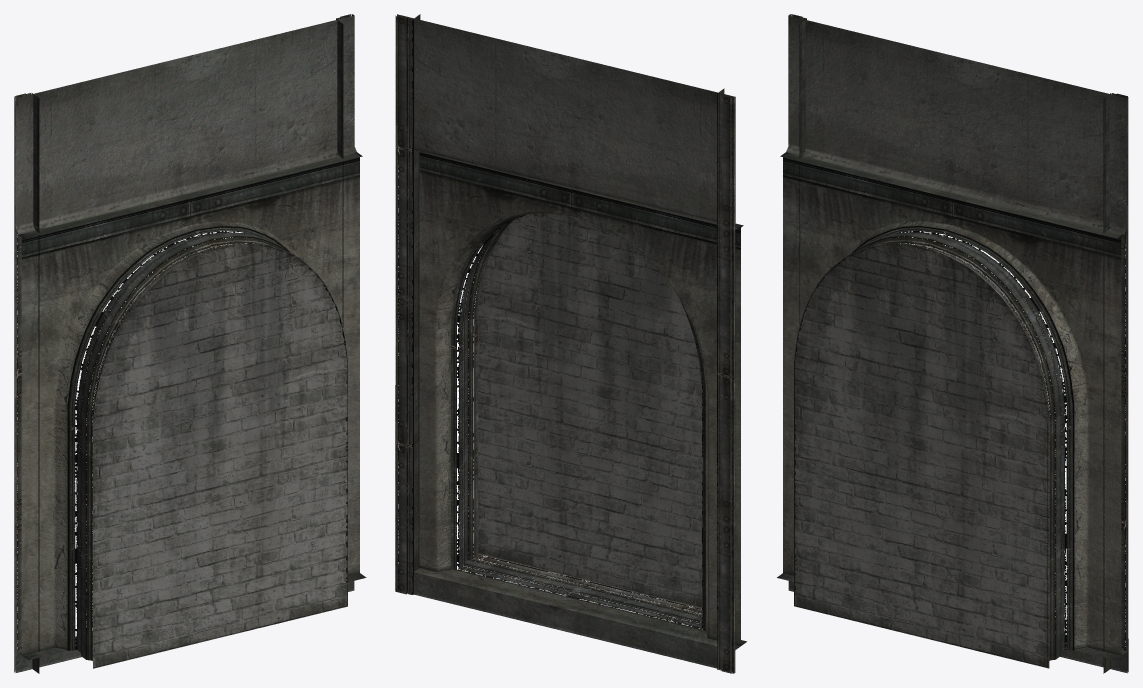
Rendered from tesla_modules1_wall_pipes.dae.
The picture shows the model from 3 angles, left to right: view 1: azimuth 30°, elevation 25°; view 2: azimuth 150°, elevation 25°; view 3: azimuth 330°, elevation 25°; orthographic projection.
Parts seen in each view (by area): view 1: wall_pipes_01_arch, wall_pipes_01_stone, wall_pipes_01_metal; view 2: wall_pipes_01_arch, wall_pipes_01_stone, wall_pipes_01_metal; view 3: wall_pipes_01_arch, wall_pipes_01_stone, wall_pipes_01_metal.
Boxes of the visible parts, x1,y1,x2,y2 form: wall_pipes_01_arch: [21, 157, 359, 668]; wall_pipes_01_stone: [15, 15, 366, 672]; wall_pipes_01_metal: [14, 14, 354, 673]; wall_pipes_01_arch: [402, 148, 740, 645]; wall_pipes_01_stone: [397, 14, 746, 671]; wall_pipes_01_metal: [395, 14, 735, 673]; wall_pipes_01_arch: [783, 157, 1121, 668]; wall_pipes_01_stone: [777, 15, 1127, 673]; wall_pipes_01_metal: [788, 14, 1128, 673].
Size of the model in its own units: 4.01 by 6.5 by 0.7848.
